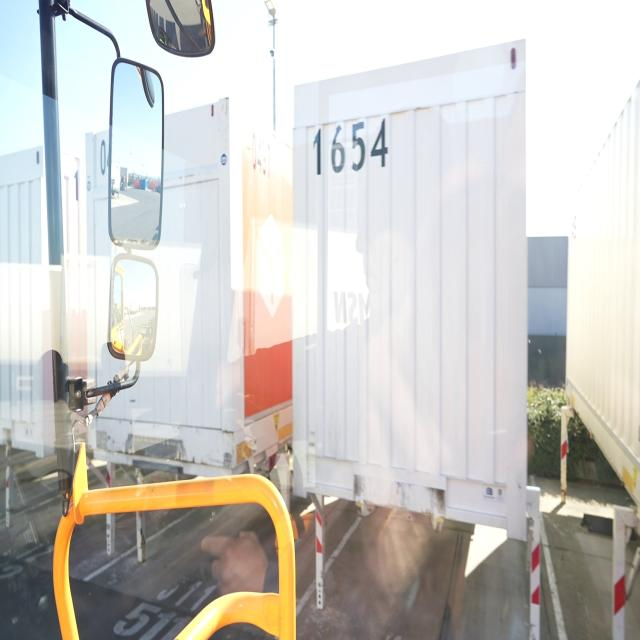Code: (311, 113, 393, 182)
